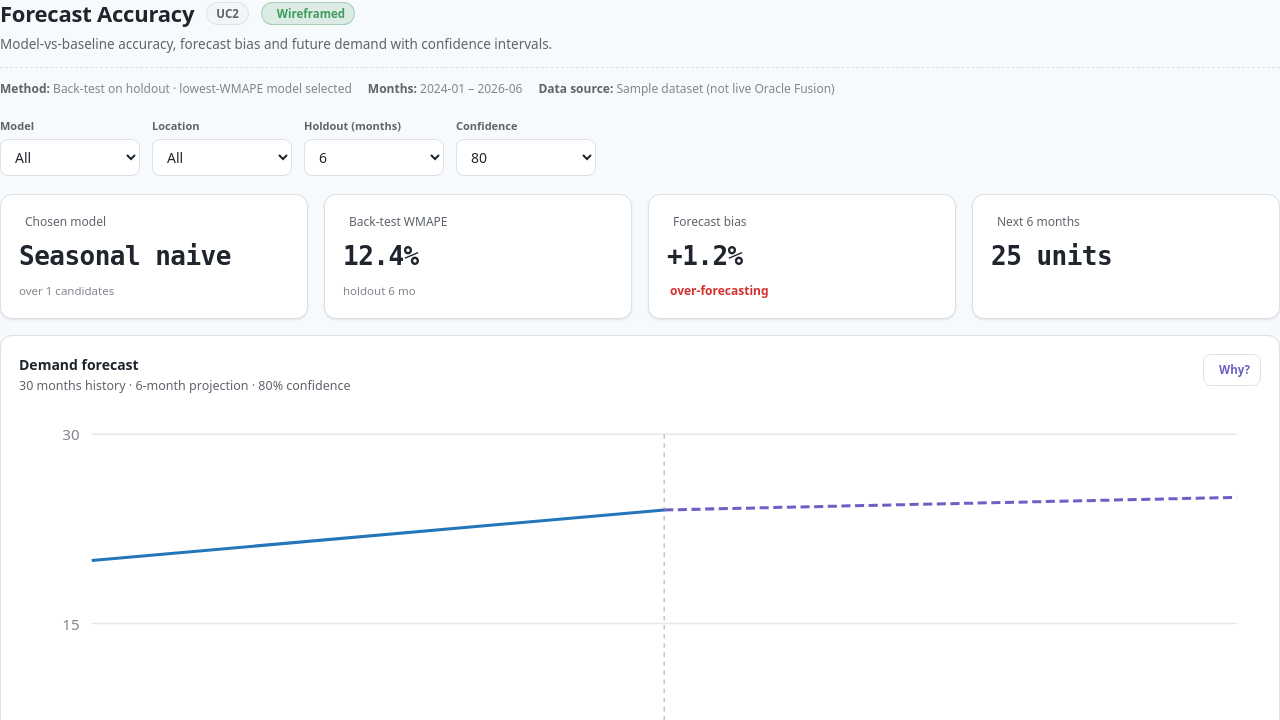
Scenario: V3-UC0x-002 — the drawer is wired into every intelligence screen › UC2 — the forecast scope header explains the scope, not a row
Click the button with aria-label "why this forecast? total business": x=1232, y=370 [1203,354,1261,386]
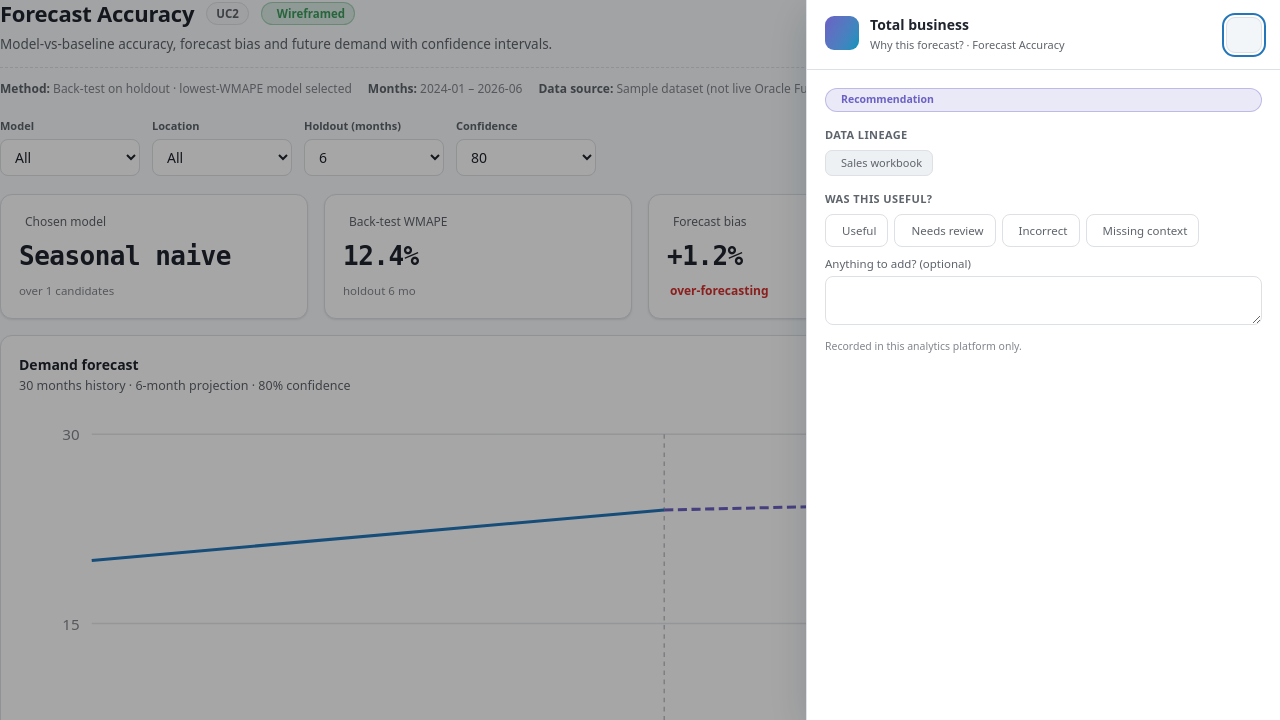
expect the text "Total business" is shown: met, box [870,15,969,34]
